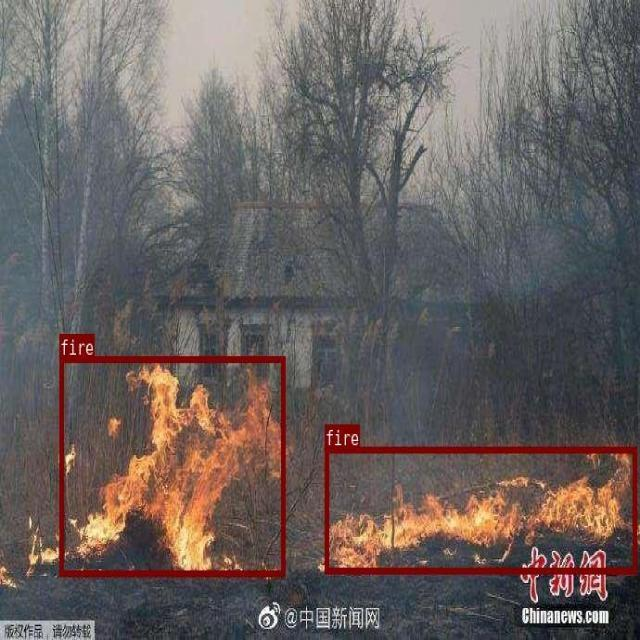fire: (59, 356, 284, 576), (324, 447, 636, 573)
